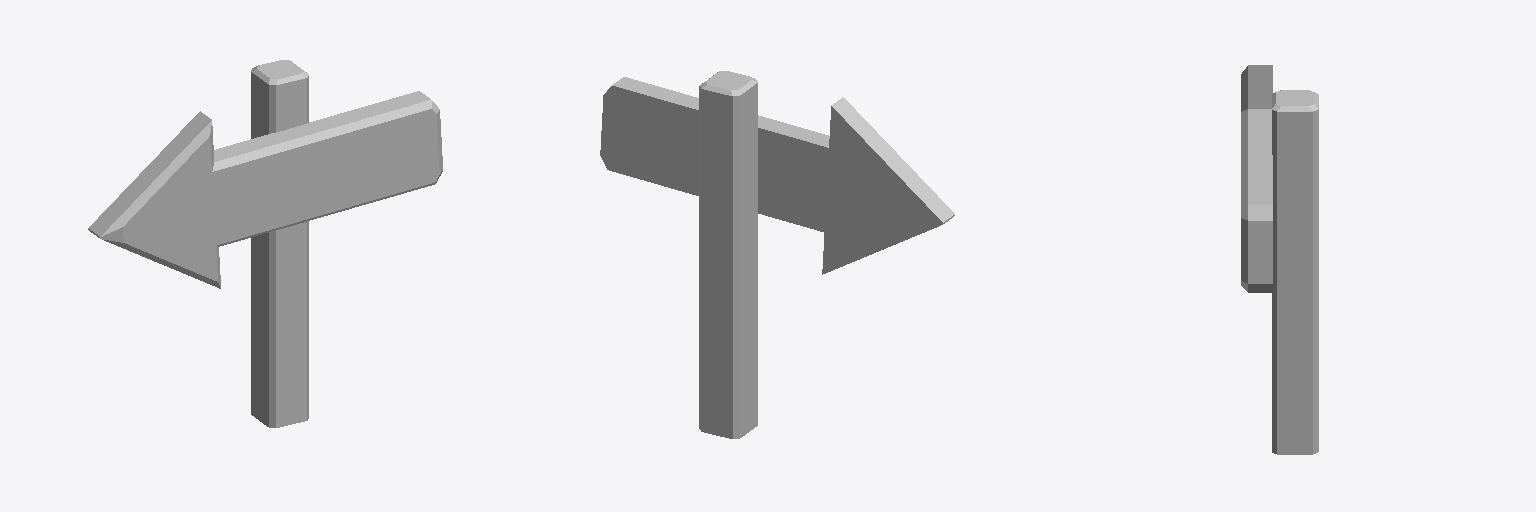
File: arrow_left.obj
3 views of the same model, side by side, from view 1: azimuth 30°, elevation 25°; view 2: azimuth 150°, elevation 25°; view 3: azimuth 270°, elevation 25° (orthographic).
Visible parts, largest first — view 1: arrow_side; view 2: arrow_side; view 3: arrow_side.
Part boxes in pixels (bbox=[...]): arrow_side: bbox=[88, 60, 442, 427]; arrow_side: bbox=[600, 71, 954, 438]; arrow_side: bbox=[1241, 65, 1318, 454].
Size of the model in its own units: 1.49 by 1.44 by 0.2906.